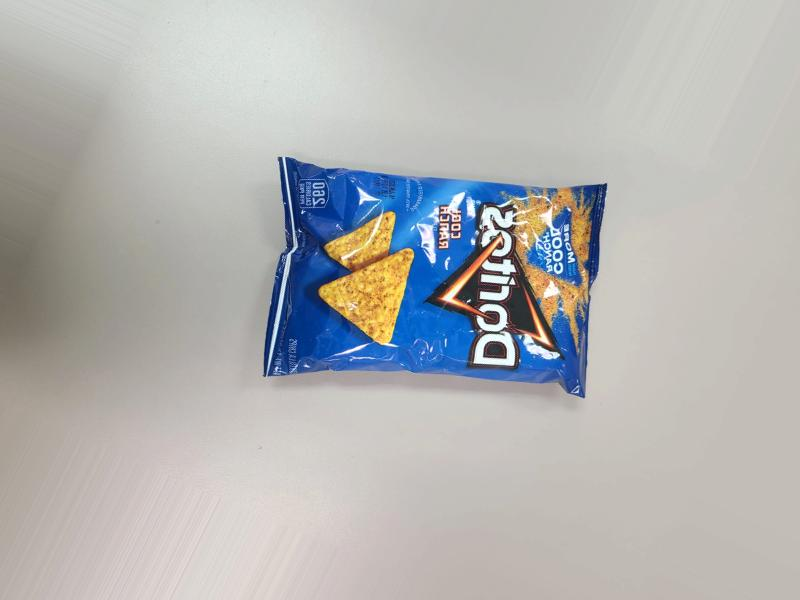doritos: (272, 167, 596, 404)
